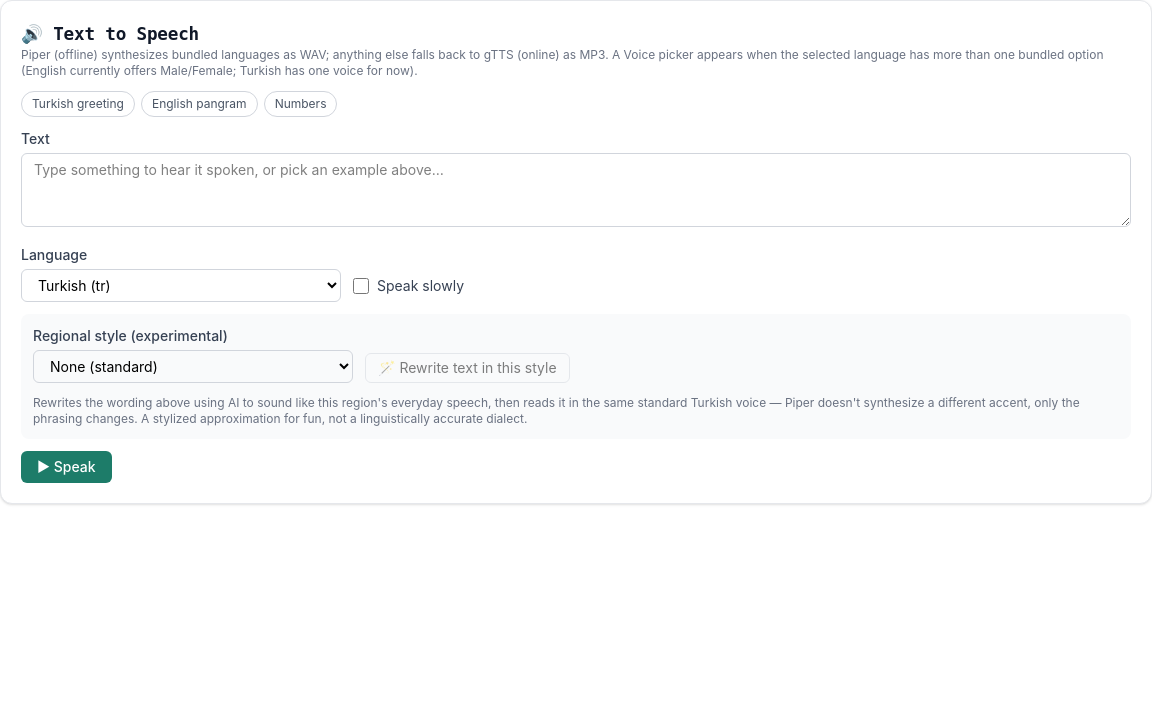
Test case: TextToSpeechCard speak/verify › verifies the synthesized clip by transcribing it back, showing confidence
The image size is (1152, 720).
In the text box labelled "Text": {"x": 576, "y": 190} top-left (21, 153), bottom-right (1131, 227), type "Merhaba"
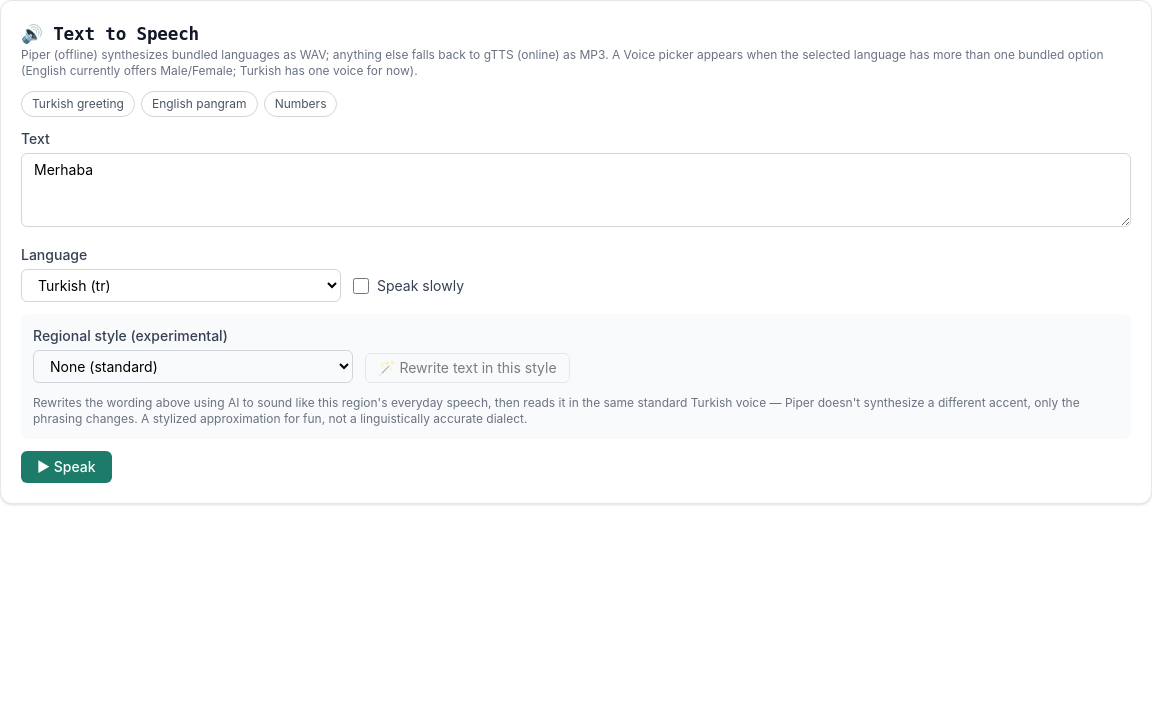
Click the button "▶ Speak": {"x": 66, "y": 467} top-left (21, 451), bottom-right (112, 483)
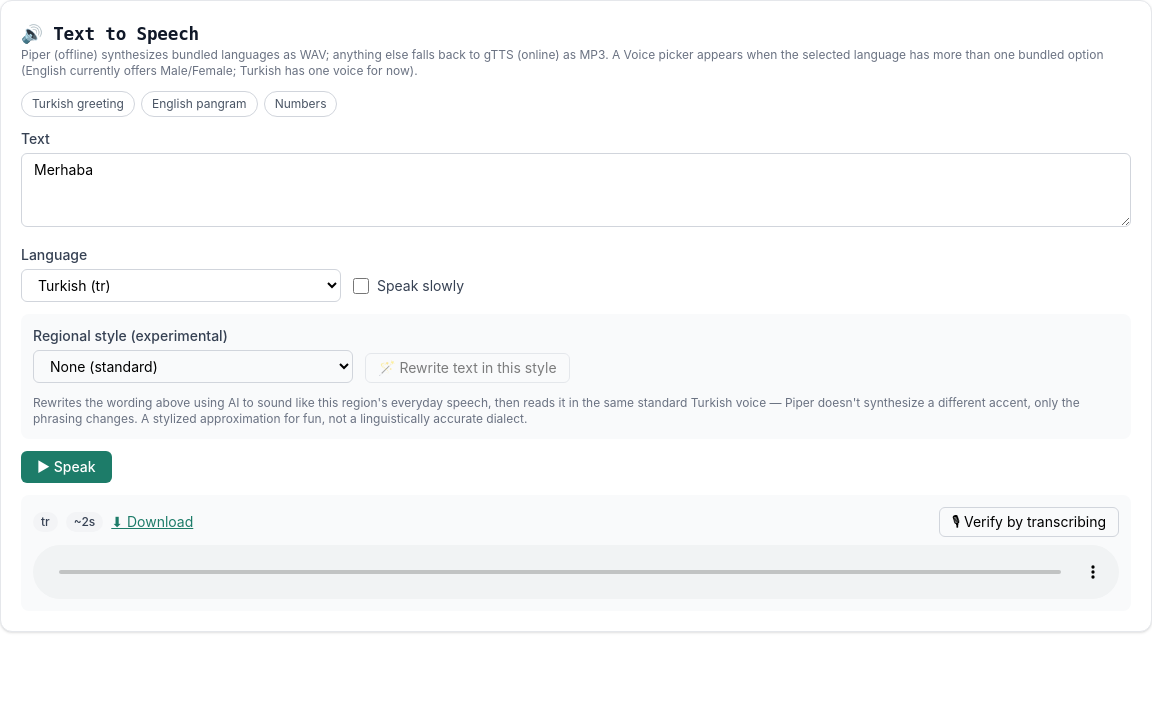
expect the link "⬇ Download" is shown: met, box top-left (111, 512), bottom-right (193, 532)
Click the button "🎙 Verify by transcribing": {"x": 1029, "y": 522} top-left (939, 507), bottom-right (1119, 537)
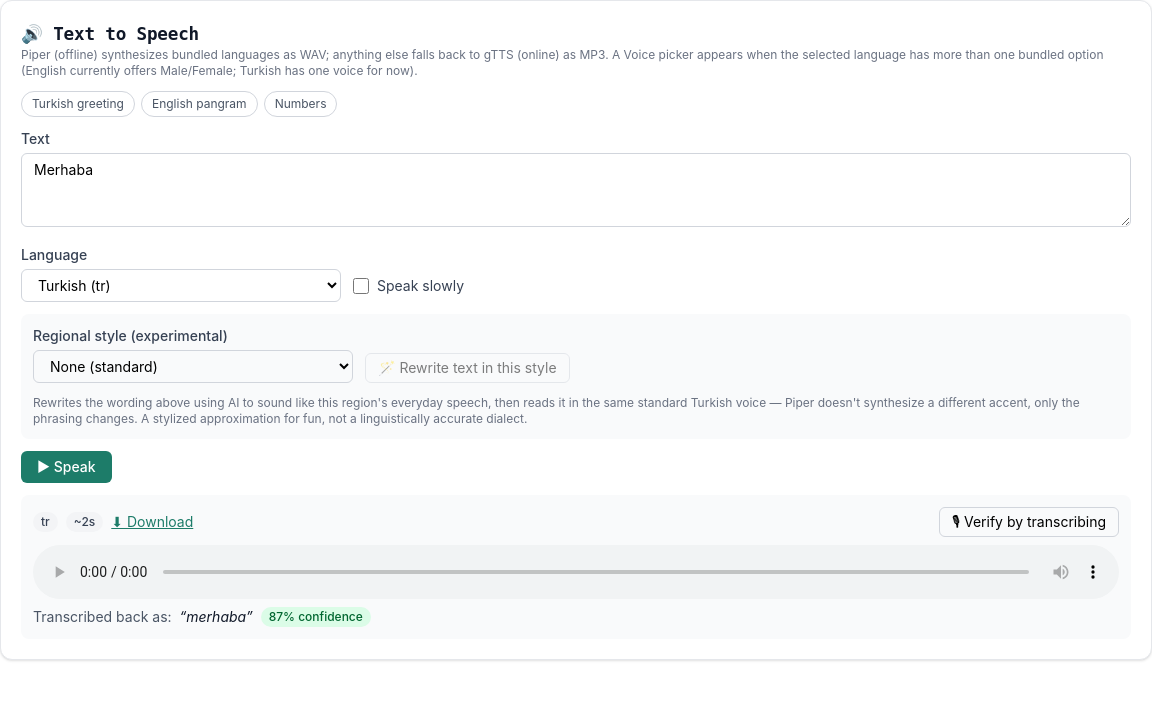
expect the text "Transcribed back as:" is shown: met, box top-left (33, 607), bottom-right (172, 627)
expect the text "“merhaba”" is shown: met, box top-left (180, 607), bottom-right (253, 627)
expect the text "87% confidence" is shown: met, box top-left (261, 607), bottom-right (371, 627)
